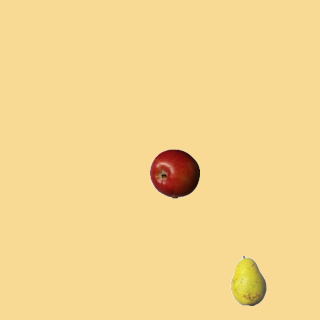Apple Braeburn: (149, 148, 199, 198)
Pear Monster: (223, 255, 273, 305)
